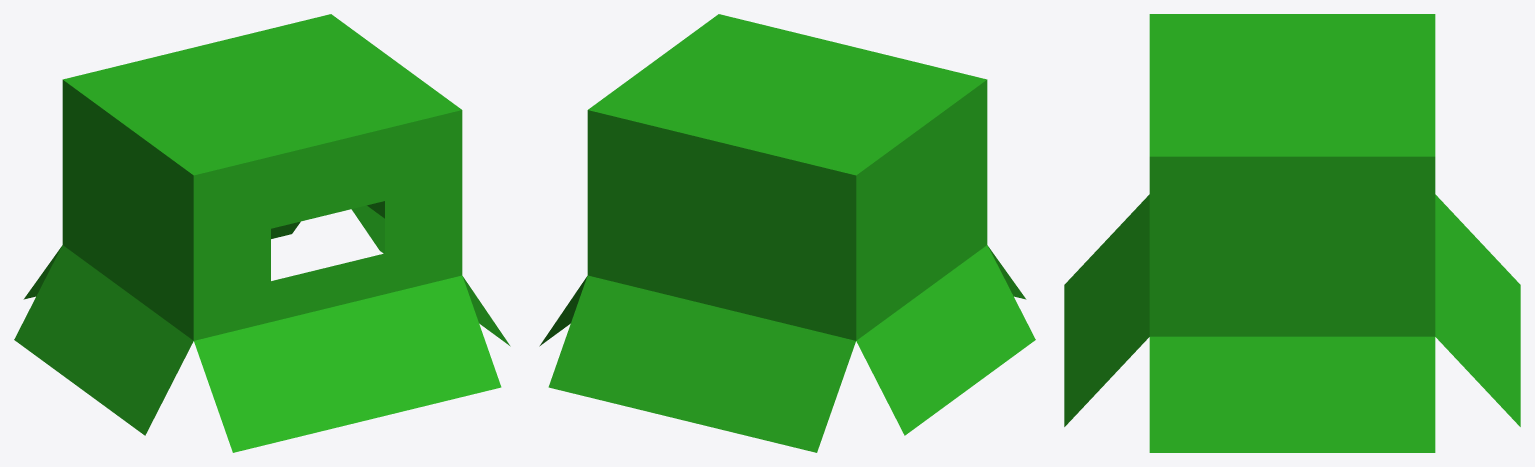
File: Man03Hat.FBX
3 renders of one model, left to right at view 1: azimuth 30°, elevation 25°; view 2: azimuth 150°, elevation 25°; view 3: azimuth 270°, elevation 25°, orthographic. The views are drawn at different scales.
Parts seen in each view (by area): view 1: Box002; view 2: Box002; view 3: Box002.
Part boxes in pixels (x1,y1,x2,y2): Box002: [14, 14, 510, 452]; Box002: [539, 14, 1035, 452]; Box002: [1064, 14, 1520, 452].
Bounding box in the file's own units: 110 × 109 × 71.48.
Materials: 1 (1 with a texture image).
